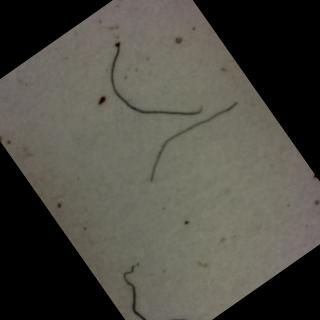Microplastic: (90, 15, 212, 148), (134, 84, 255, 185), (104, 237, 211, 320)
